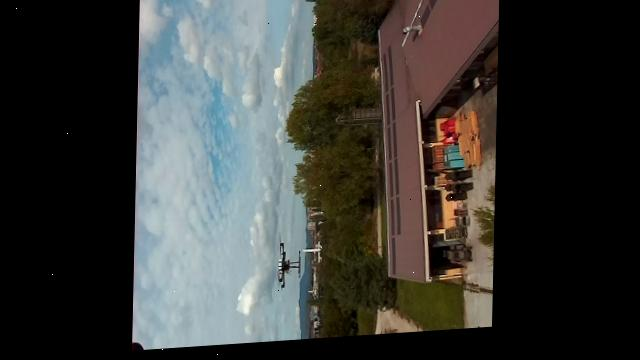drone: (264, 227, 312, 300)
